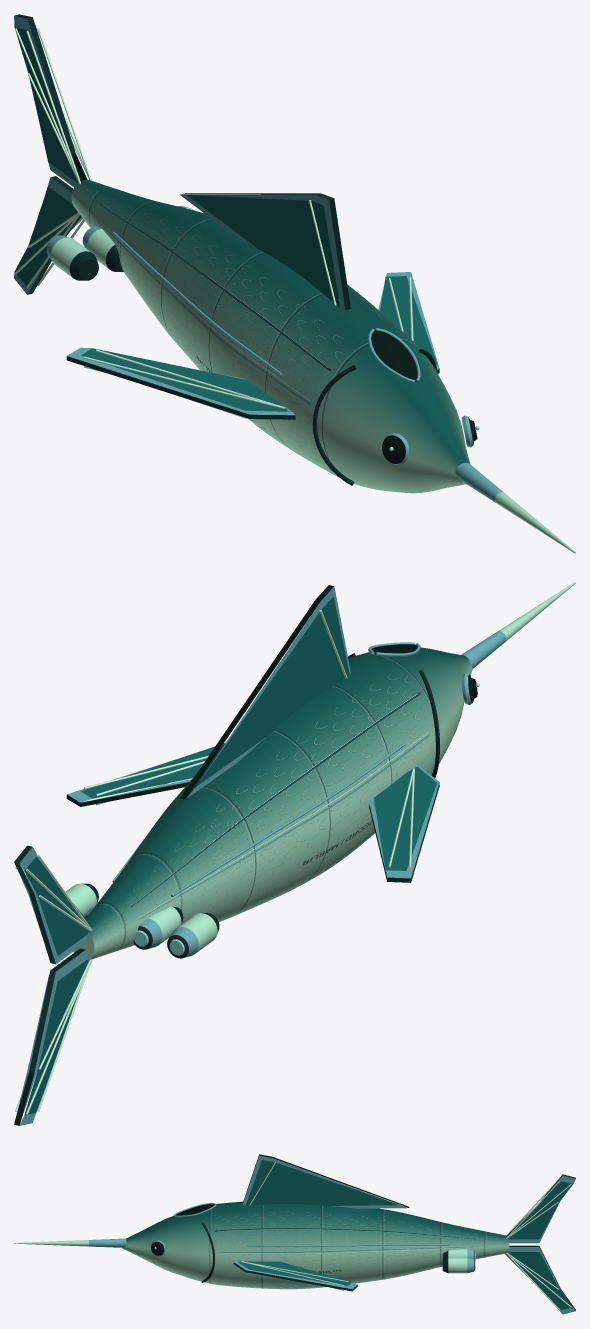
3 views of the same model, one above another, from view 1: azimuth 30°, elevation 25°; view 2: azimuth 150°, elevation 25°; view 3: azimuth 270°, elevation 25° (orthographic). The views are drawn at different scales.
Visible parts, largest first — view 1: marlin_hull; view 2: marlin_hull; view 3: marlin_hull.
Boxes of the visible parts, bbox=[...] form: marlin_hull: bbox=[14, 14, 575, 553]; marlin_hull: bbox=[14, 582, 575, 1125]; marlin_hull: bbox=[14, 1154, 575, 1314].
Size of the model in its own units: 29.91 by 26.23 by 84.
Materials: 1 (1 with a texture image).
